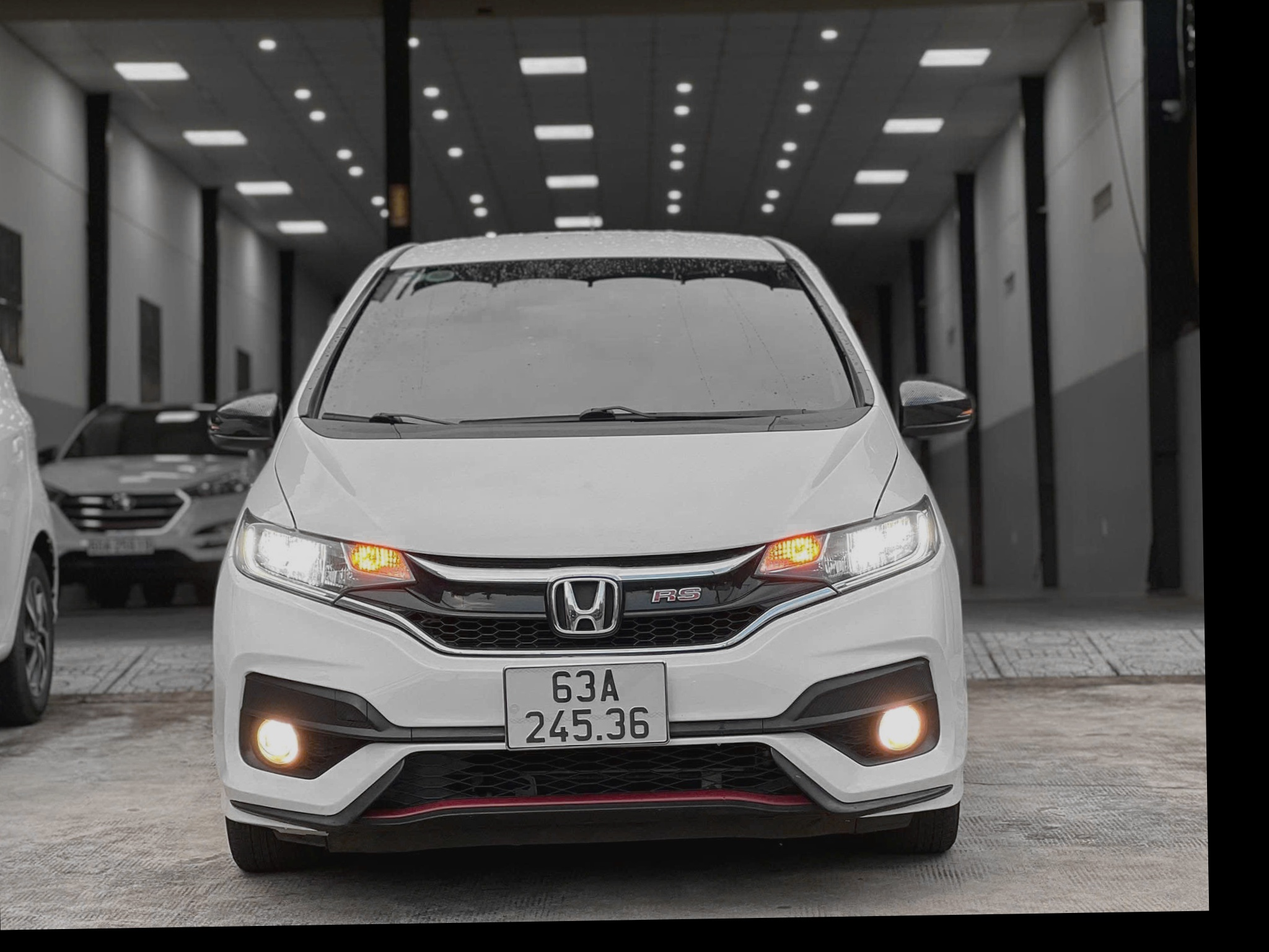Bien-so: (498, 660, 665, 753)
